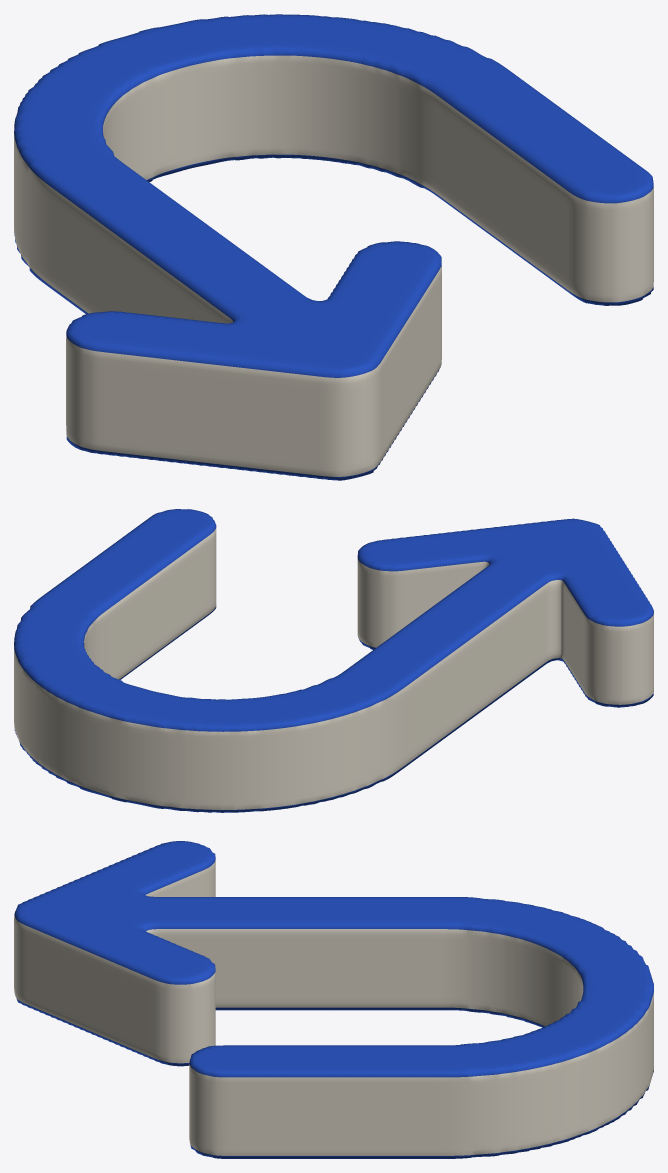
File: u-turn.fbx
The picture shows the model from 3 angles, top to bottom: view 1: azimuth 30°, elevation 25°; view 2: azimuth 150°, elevation 25°; view 3: azimuth 270°, elevation 25°; orthographic projection. The views are drawn at different scales.
Parts seen in each view (by area): view 1: Curve; view 2: Curve; view 3: Curve.
Part boxes in pixels (<box>): Curve: <box>14,14,653,480</box>; Curve: <box>14,509,653,812</box>; Curve: <box>14,841,653,1158</box>.
Bounding box in the file's own units: 957 × 167 × 1109.
